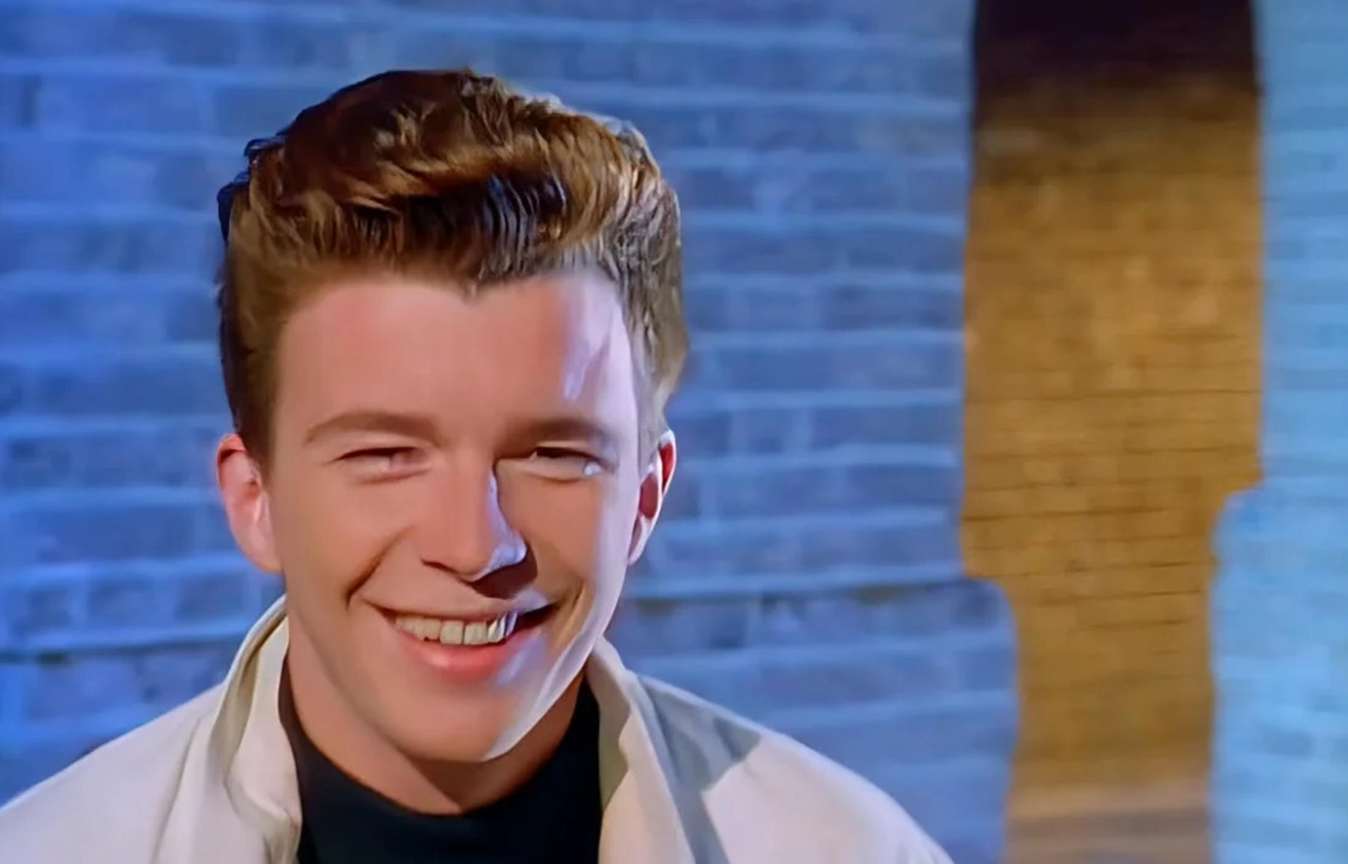safety_helmet: (3, 65, 961, 861), (212, 66, 690, 766)
